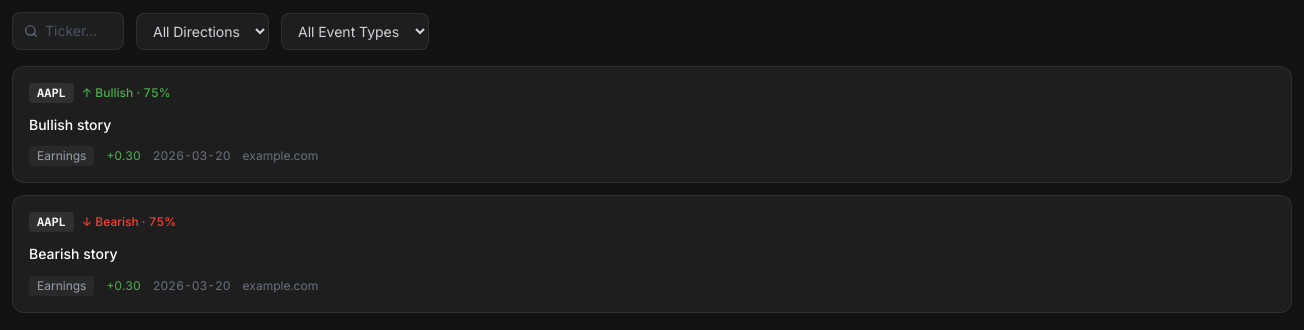
NewsFeed › filters to bullish direction only
Select "Bullish" in the dropdown named "Direction" at (202, 31), box [136, 12, 269, 50]
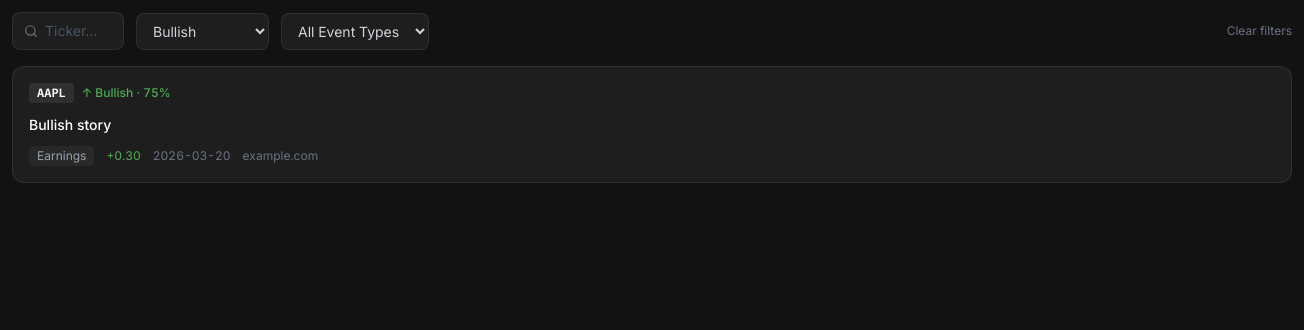
Check: the link "Bullish story" is shown, box [29, 116, 111, 133]
Check: the link "Bearish story" is gone
